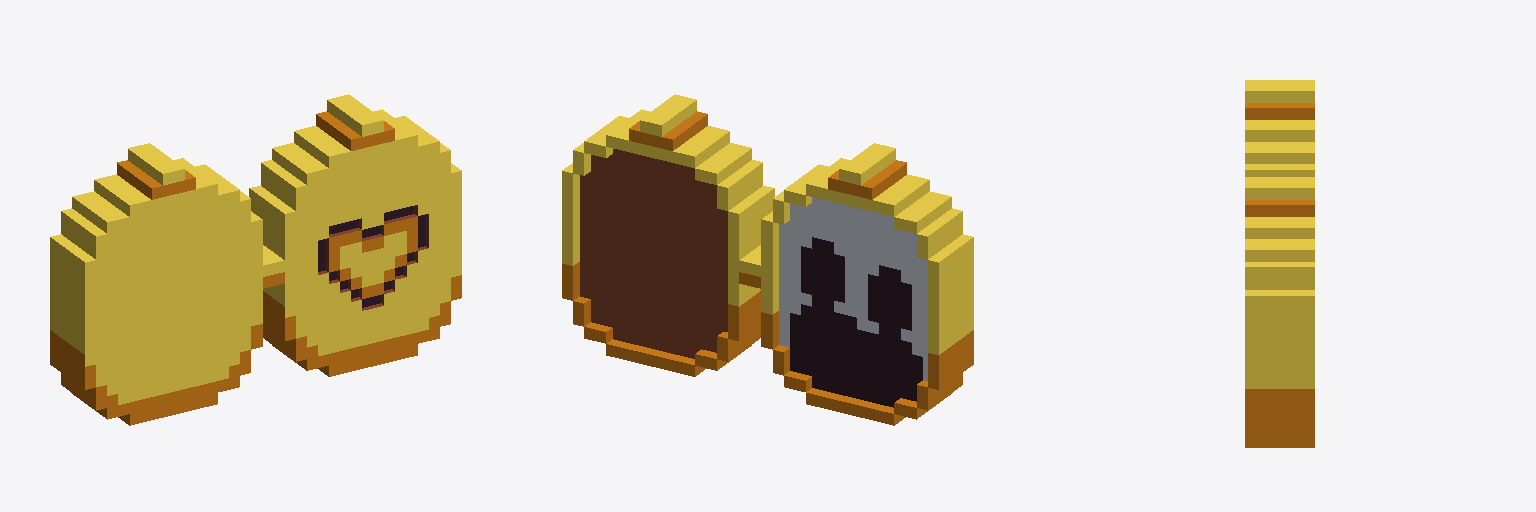
Rendered from Locket.obj.
3 renders of one model, left to right at view 1: azimuth 30°, elevation 25°; view 2: azimuth 150°, elevation 25°; view 3: azimuth 270°, elevation 25°, orthographic.
Size of the model in its own units: 34 by 21 by 5.5.